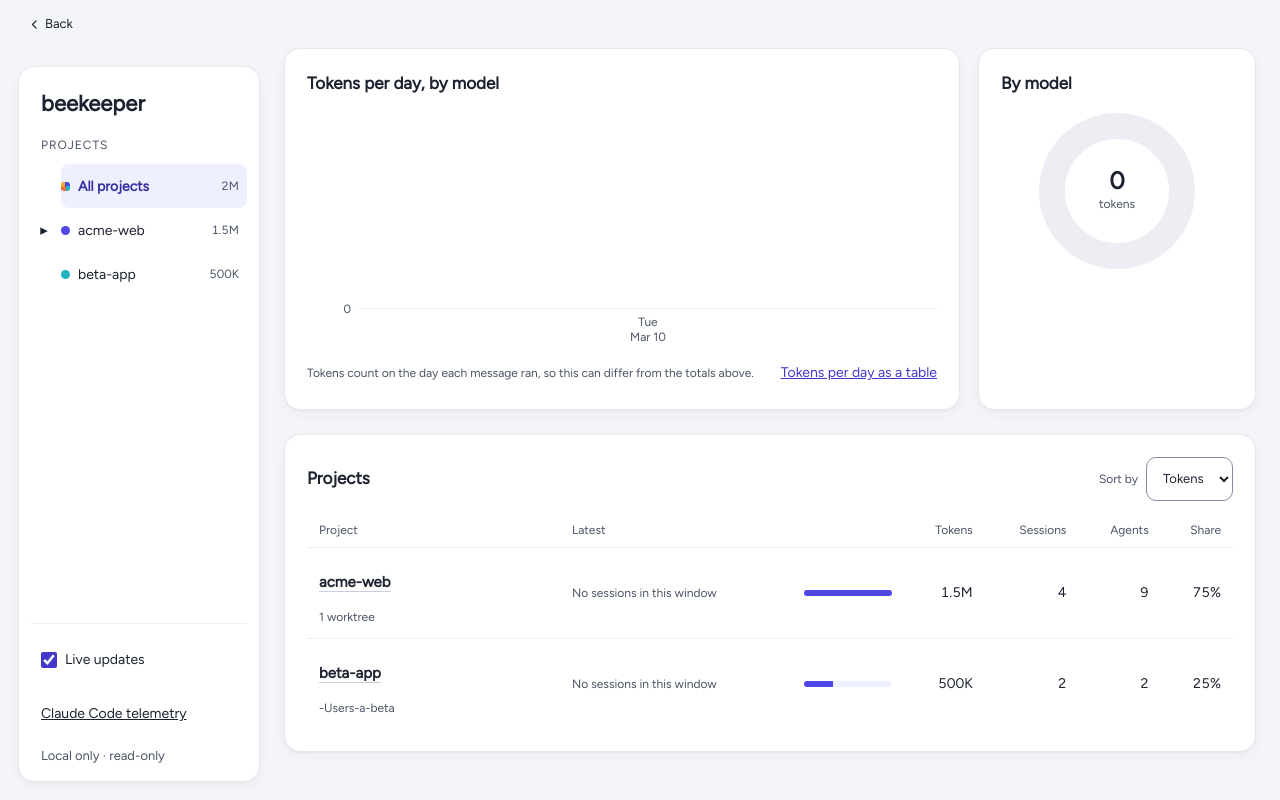
Test: OverviewView projects table › selects the project and opens its sessions when the card is pressed
The width and height of the screenshot is (1280, 800).
(page scrolled)
Click the button "beta-app".
click(350, 673)  # box [319, 651, 381, 695]
(page scrolled)
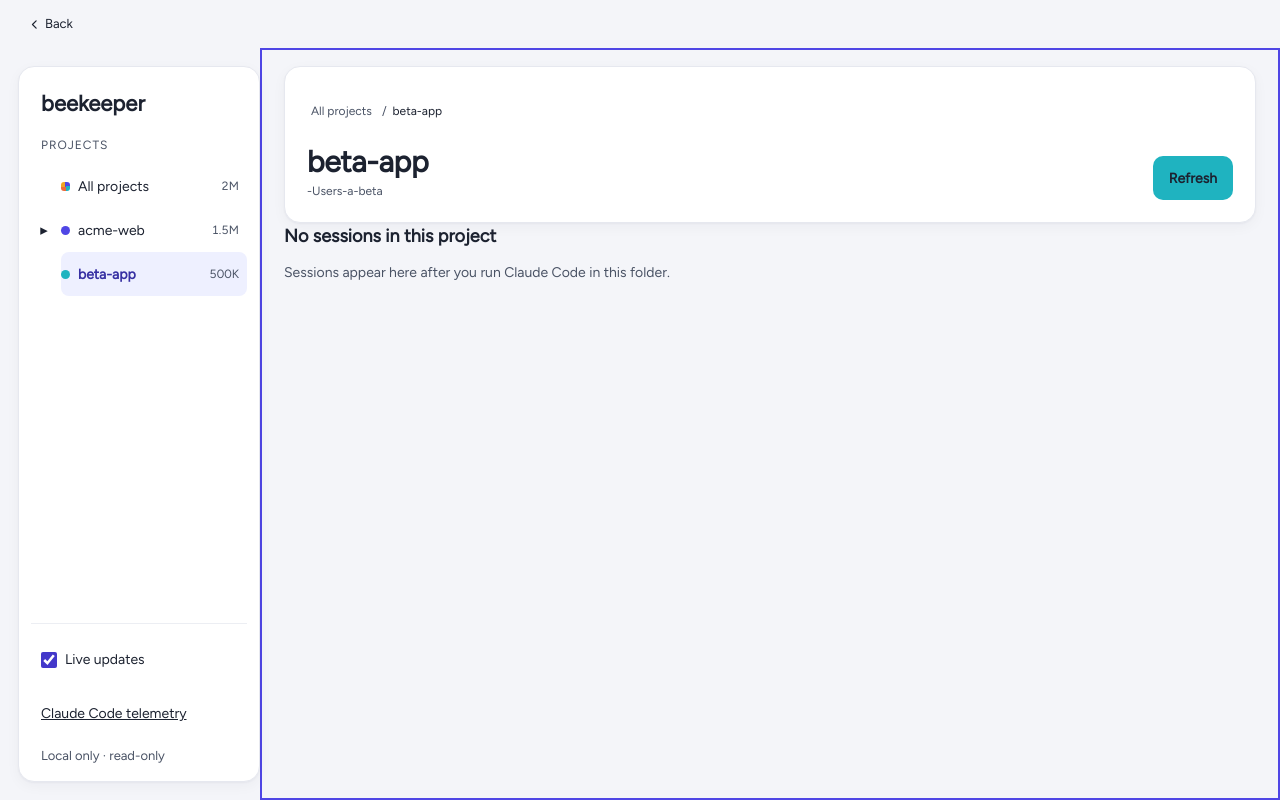
Check: the heading "beta-app" is shown, box [307, 145, 428, 178]
